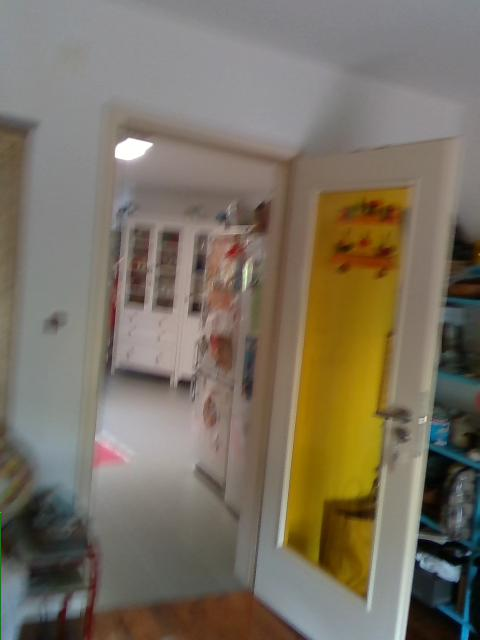open_door: (79, 99, 295, 597)
